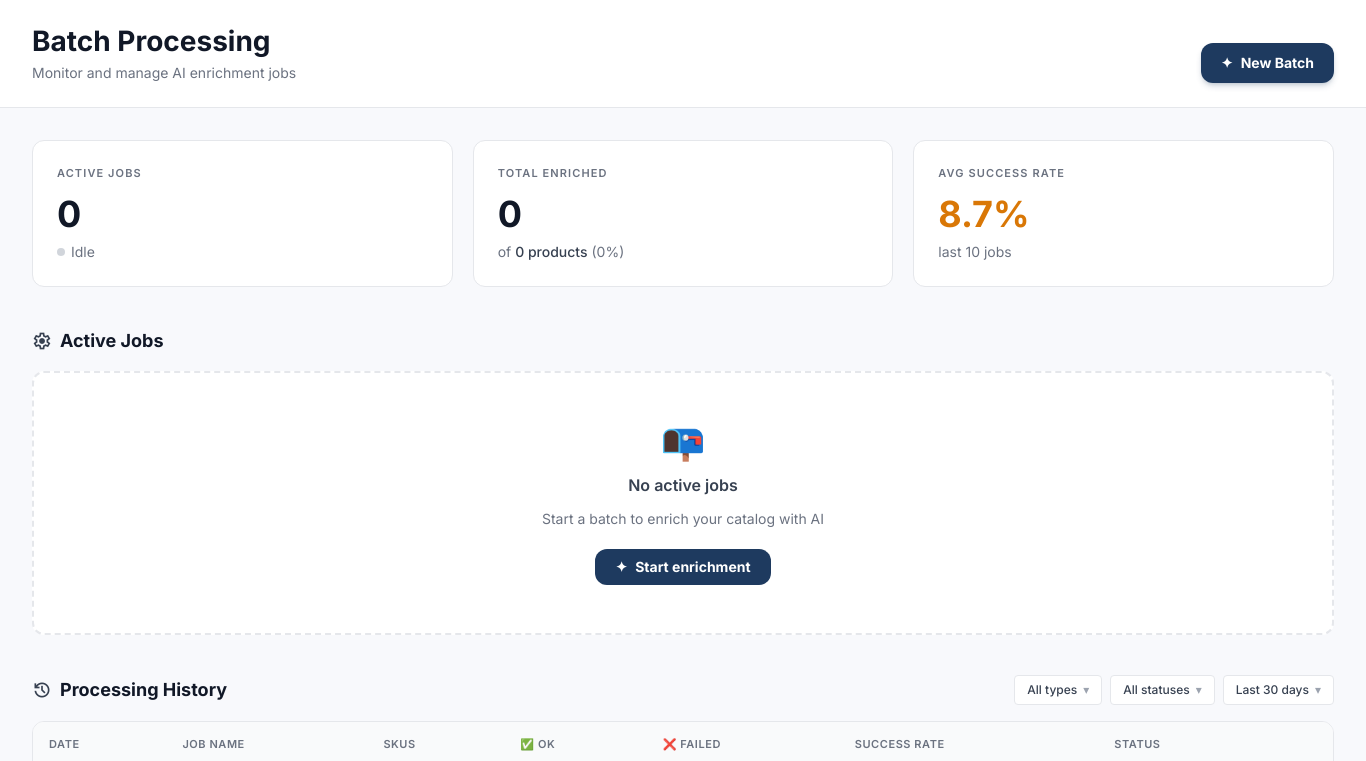
Scenario: ProcessingPage — handleStartBatch › stänger felmeddelande när ✕ klickas
The image size is (1366, 761).
What coordinates should you click on to do the following:
click the button "✦ New Batch"
I would click on:
 (1267, 63)
Its box is [1201,43,1334,83].
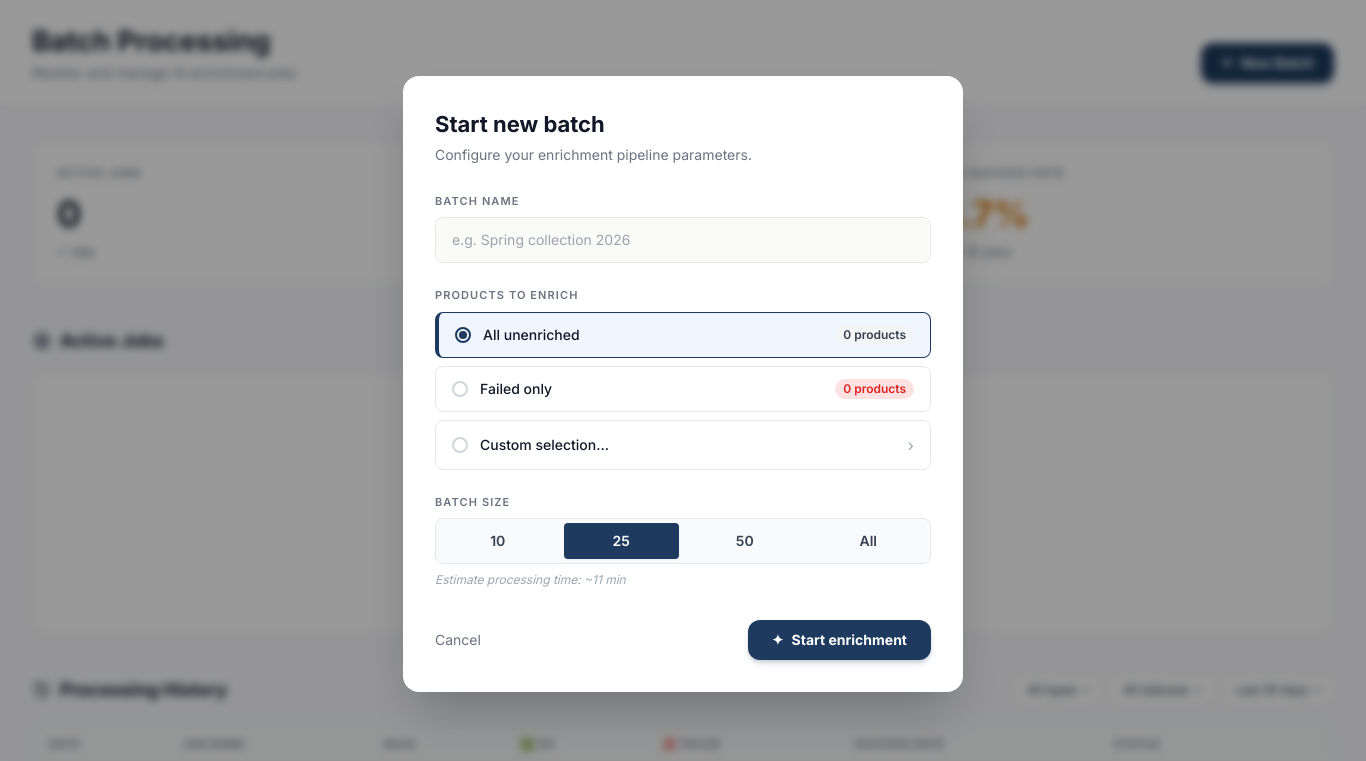
What coordinates should you click on to do the following:
click the button "✦ Start enrichment"
I would click on:
 (839, 640)
Its box is [748,620,931,660].
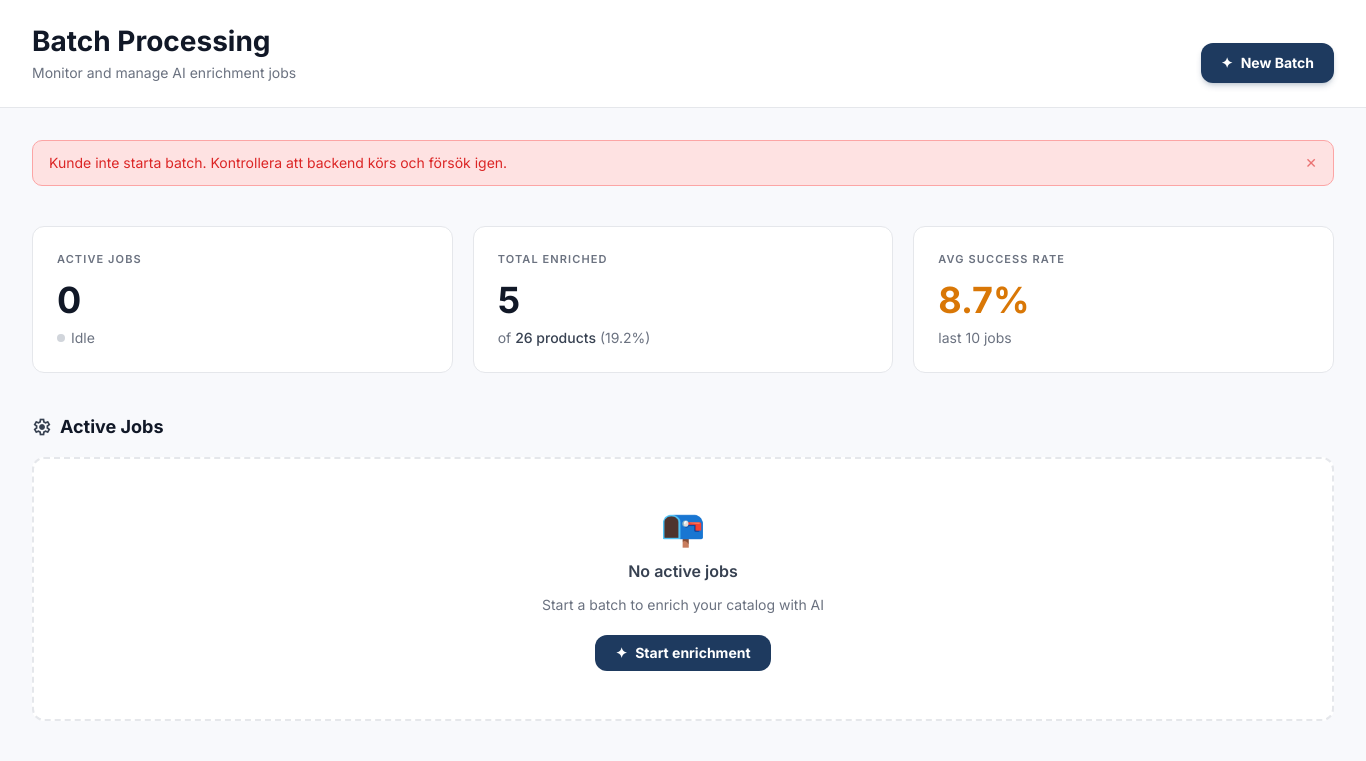
Expected: the message "Kunde inte starta batch. Kontrollera att backend körs och försök igen. ✕" is shown, [32,140,1334,186]
What coordinates should you click on to do the following:
click the button "✕"
I would click on:
 (1311, 163)
Its box is [1305,153,1317,173].
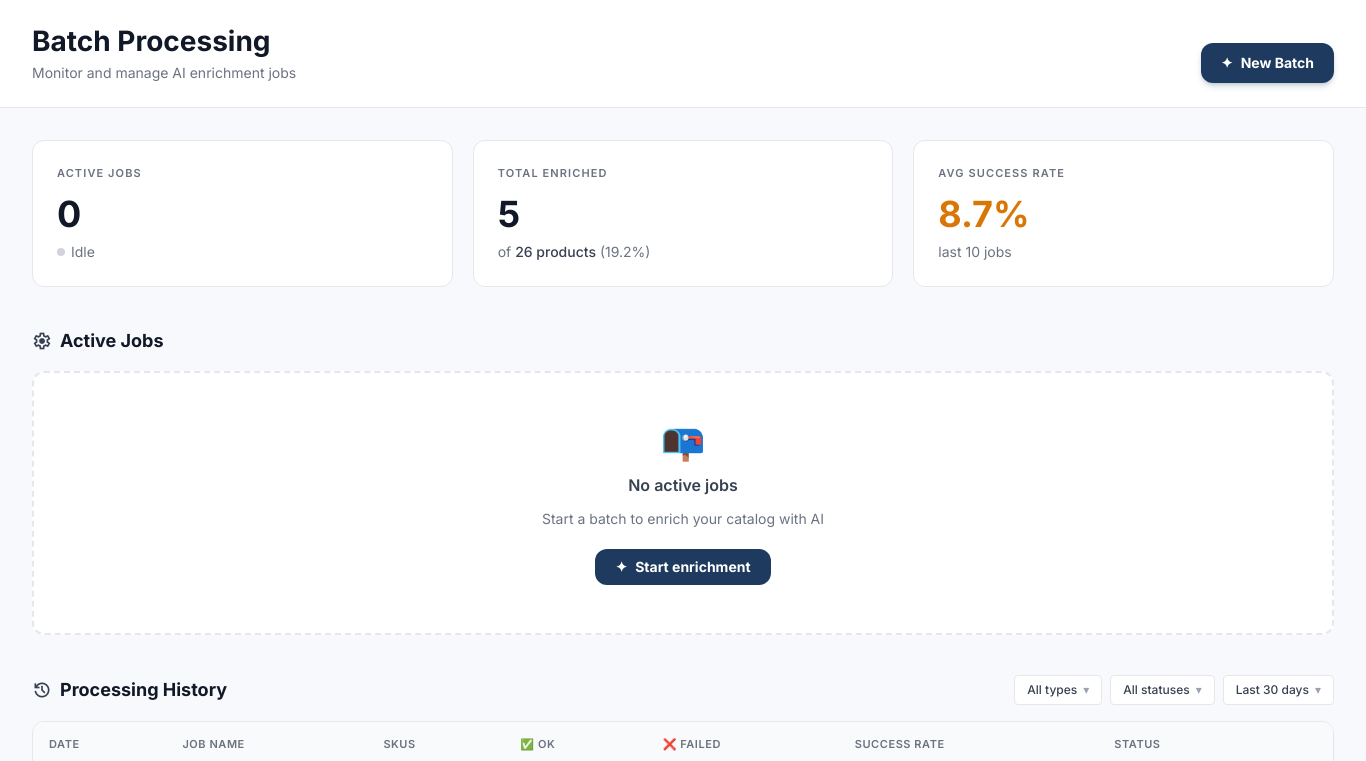
Expected: the message "Kunde inte starta batch. Kontrollera att backend körs och försök igen. ✕" is gone
